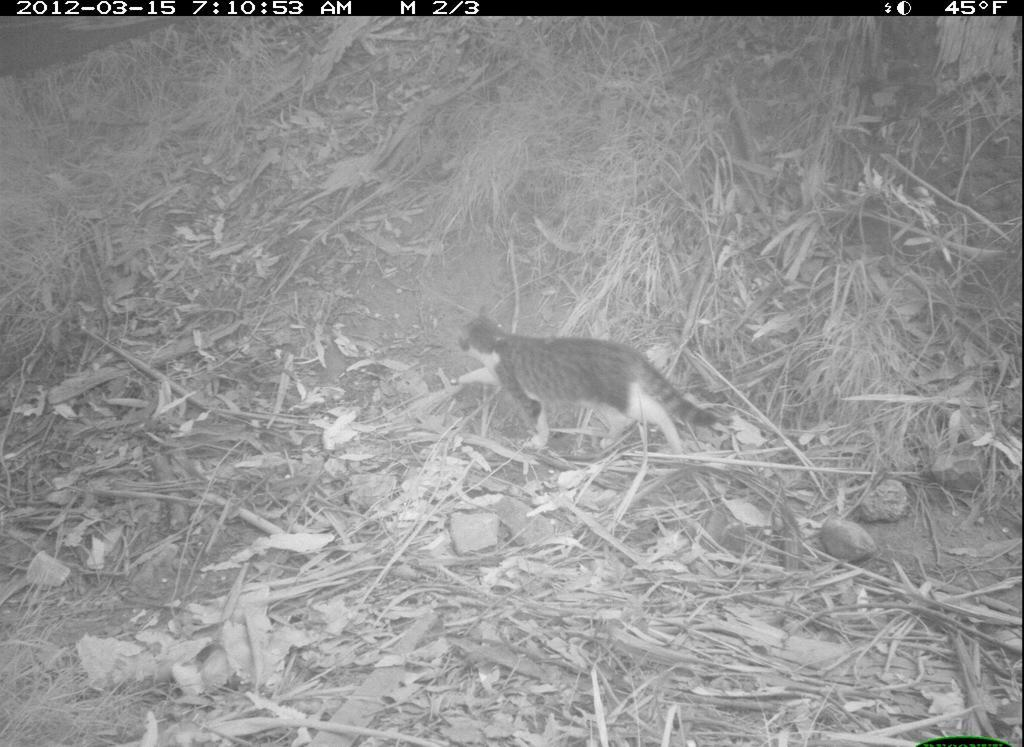cat: (447, 299, 730, 472)
